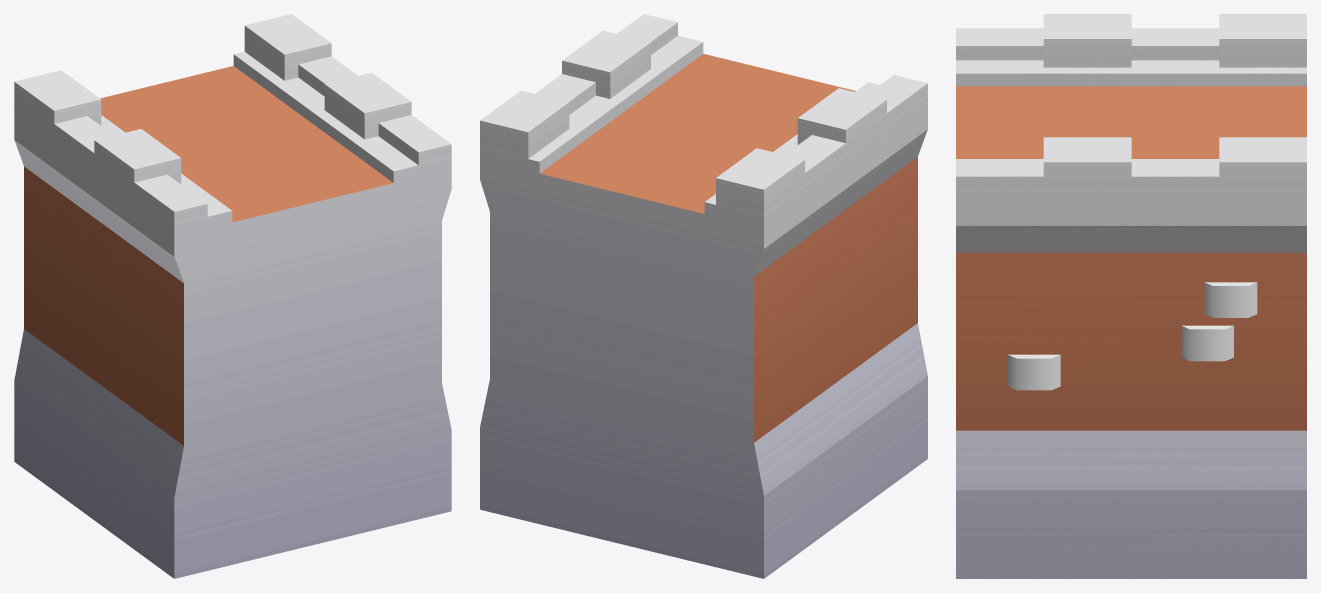
Rendered from wall.glb.
3 renders of one model, left to right at view 1: azimuth 30°, elevation 25°; view 2: azimuth 150°, elevation 25°; view 3: azimuth 270°, elevation 25°, orthographic. The views are drawn at different scales.
Visible parts, largest first — view 1: wall; view 2: wall; view 3: wall.
Boxes of the visible parts, box(x1,y1,x2,y2) form: wall: box(14, 14, 451, 578); wall: box(480, 14, 927, 578); wall: box(956, 14, 1306, 578).
Bounding box in the file's own units: 1 × 1.31 × 1.
1 material, 1 textured.
